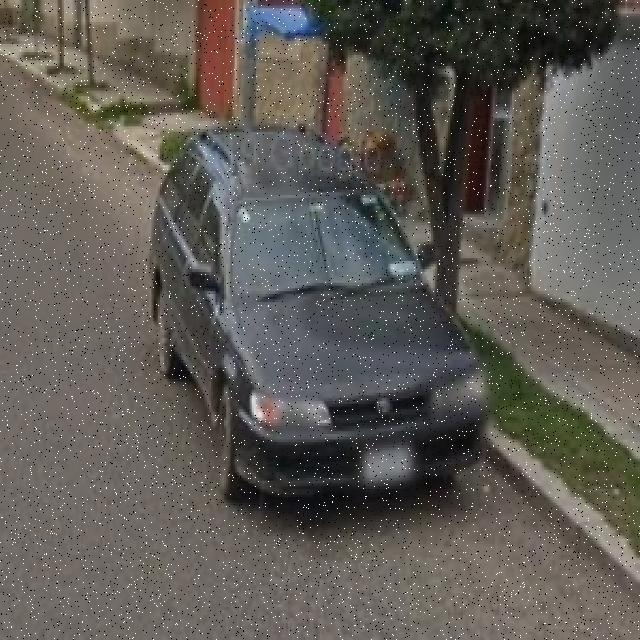cars: (140, 112, 499, 527)
